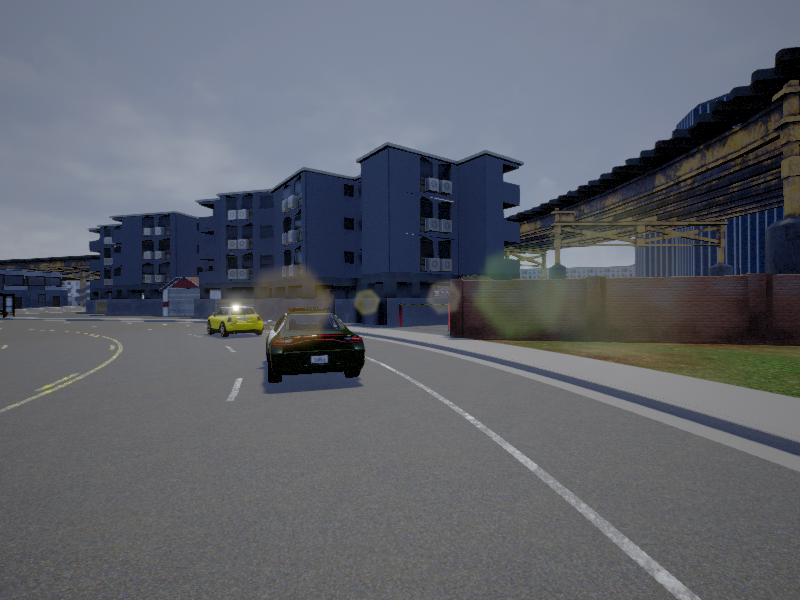Benign: (266, 307, 365, 382), (209, 307, 263, 336)
